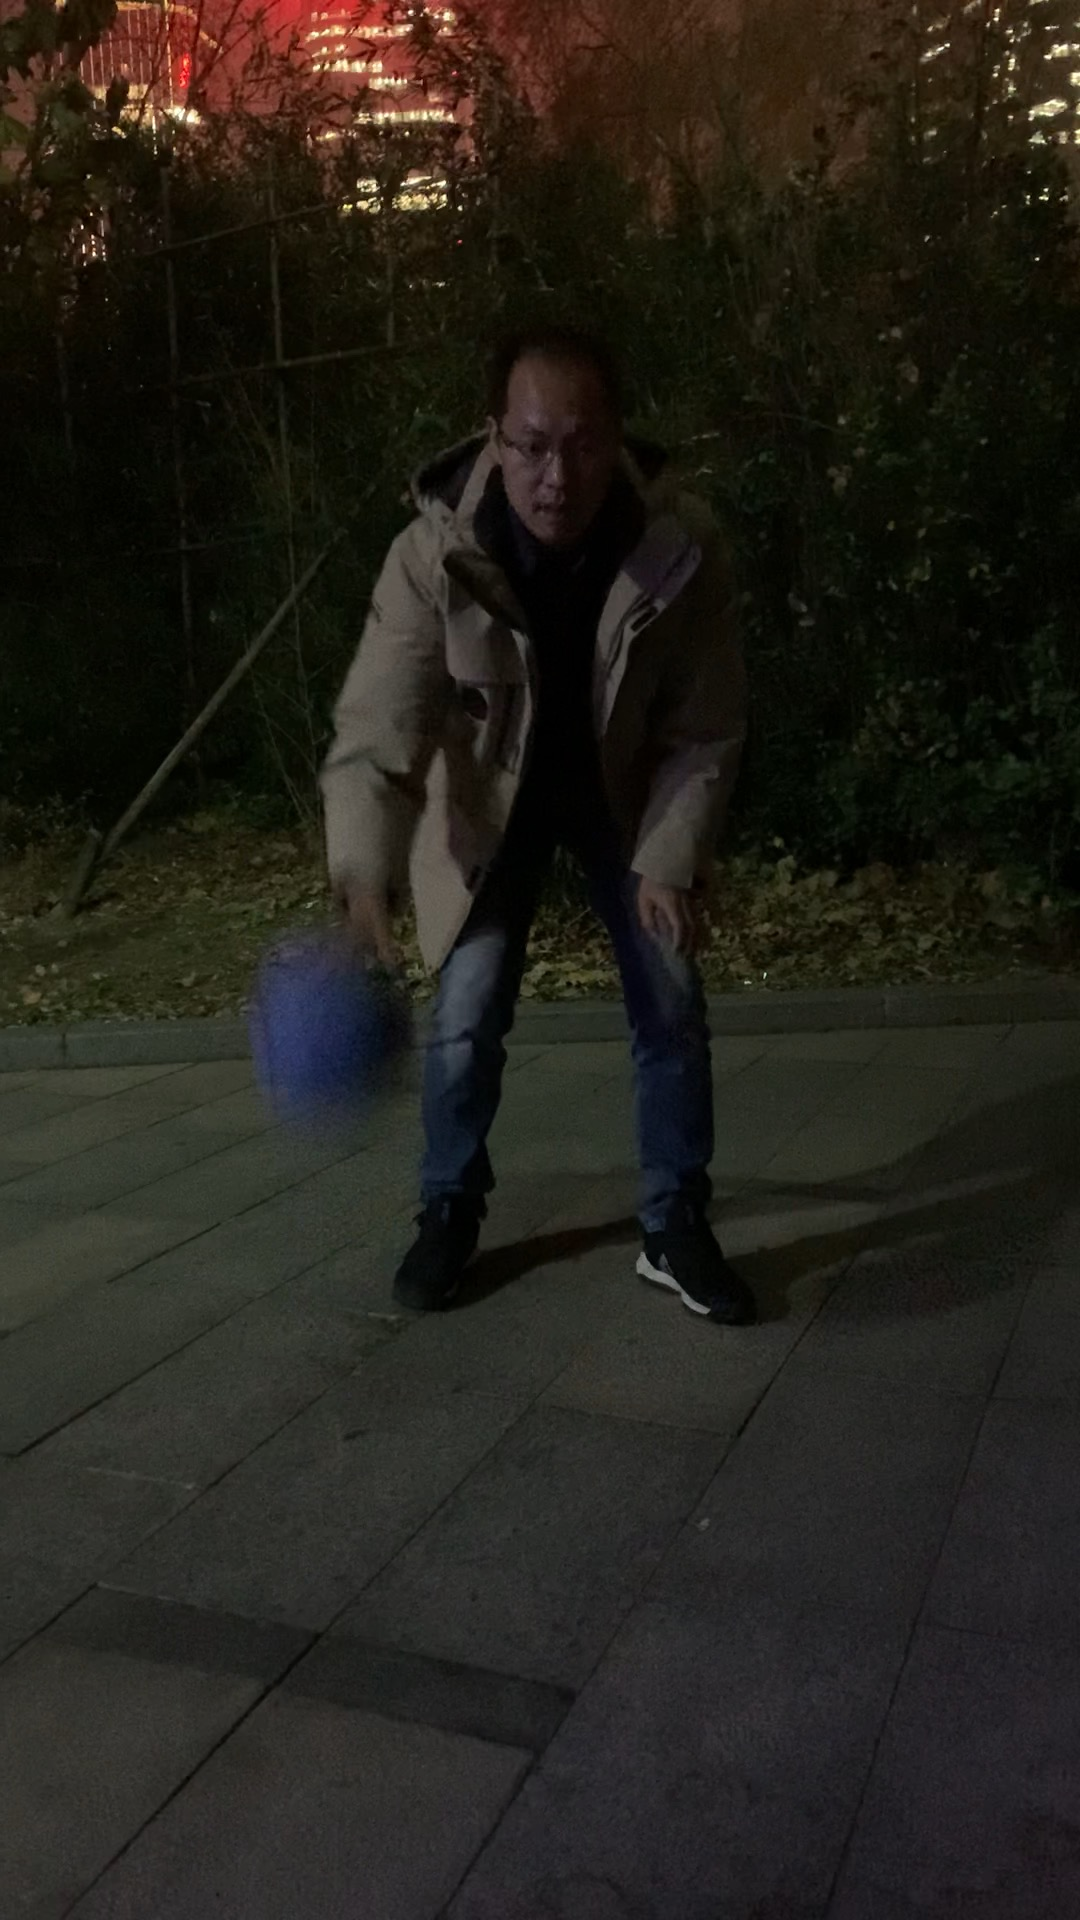ball: (255, 951, 419, 1124)
